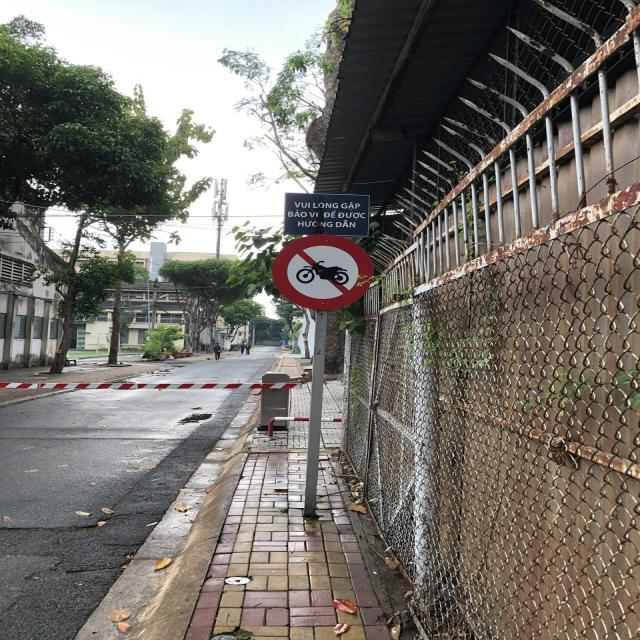Bien bao cam xe may: (264, 233, 385, 315)
